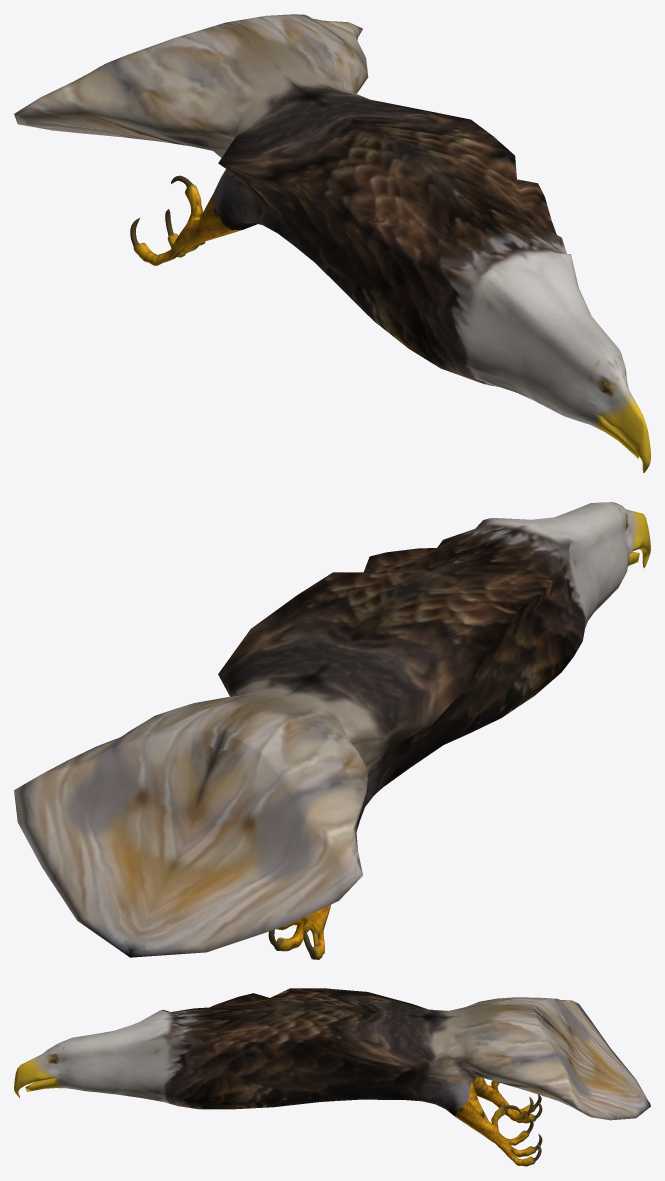
File: Cuerpo.obj
The picture shows the model from 3 angles, top to bottom: view 1: azimuth 30°, elevation 25°; view 2: azimuth 150°, elevation 25°; view 3: azimuth 270°, elevation 25°; orthographic projection. The views are drawn at different scales.
Parts seen in each view (by area): view 1: Flugel_Plane.003; view 2: Flugel_Plane.003; view 3: Flugel_Plane.003.
Boxes of the visible parts, box(x1,y1,x2,y2) form: Flugel_Plane.003: box(14, 14, 650, 472); Flugel_Plane.003: box(14, 502, 650, 959); Flugel_Plane.003: box(14, 988, 650, 1166).
Bounding box in the file's own units: 2.36 × 1.43 × 6.07.
Materials: 1 (1 with a texture image).
